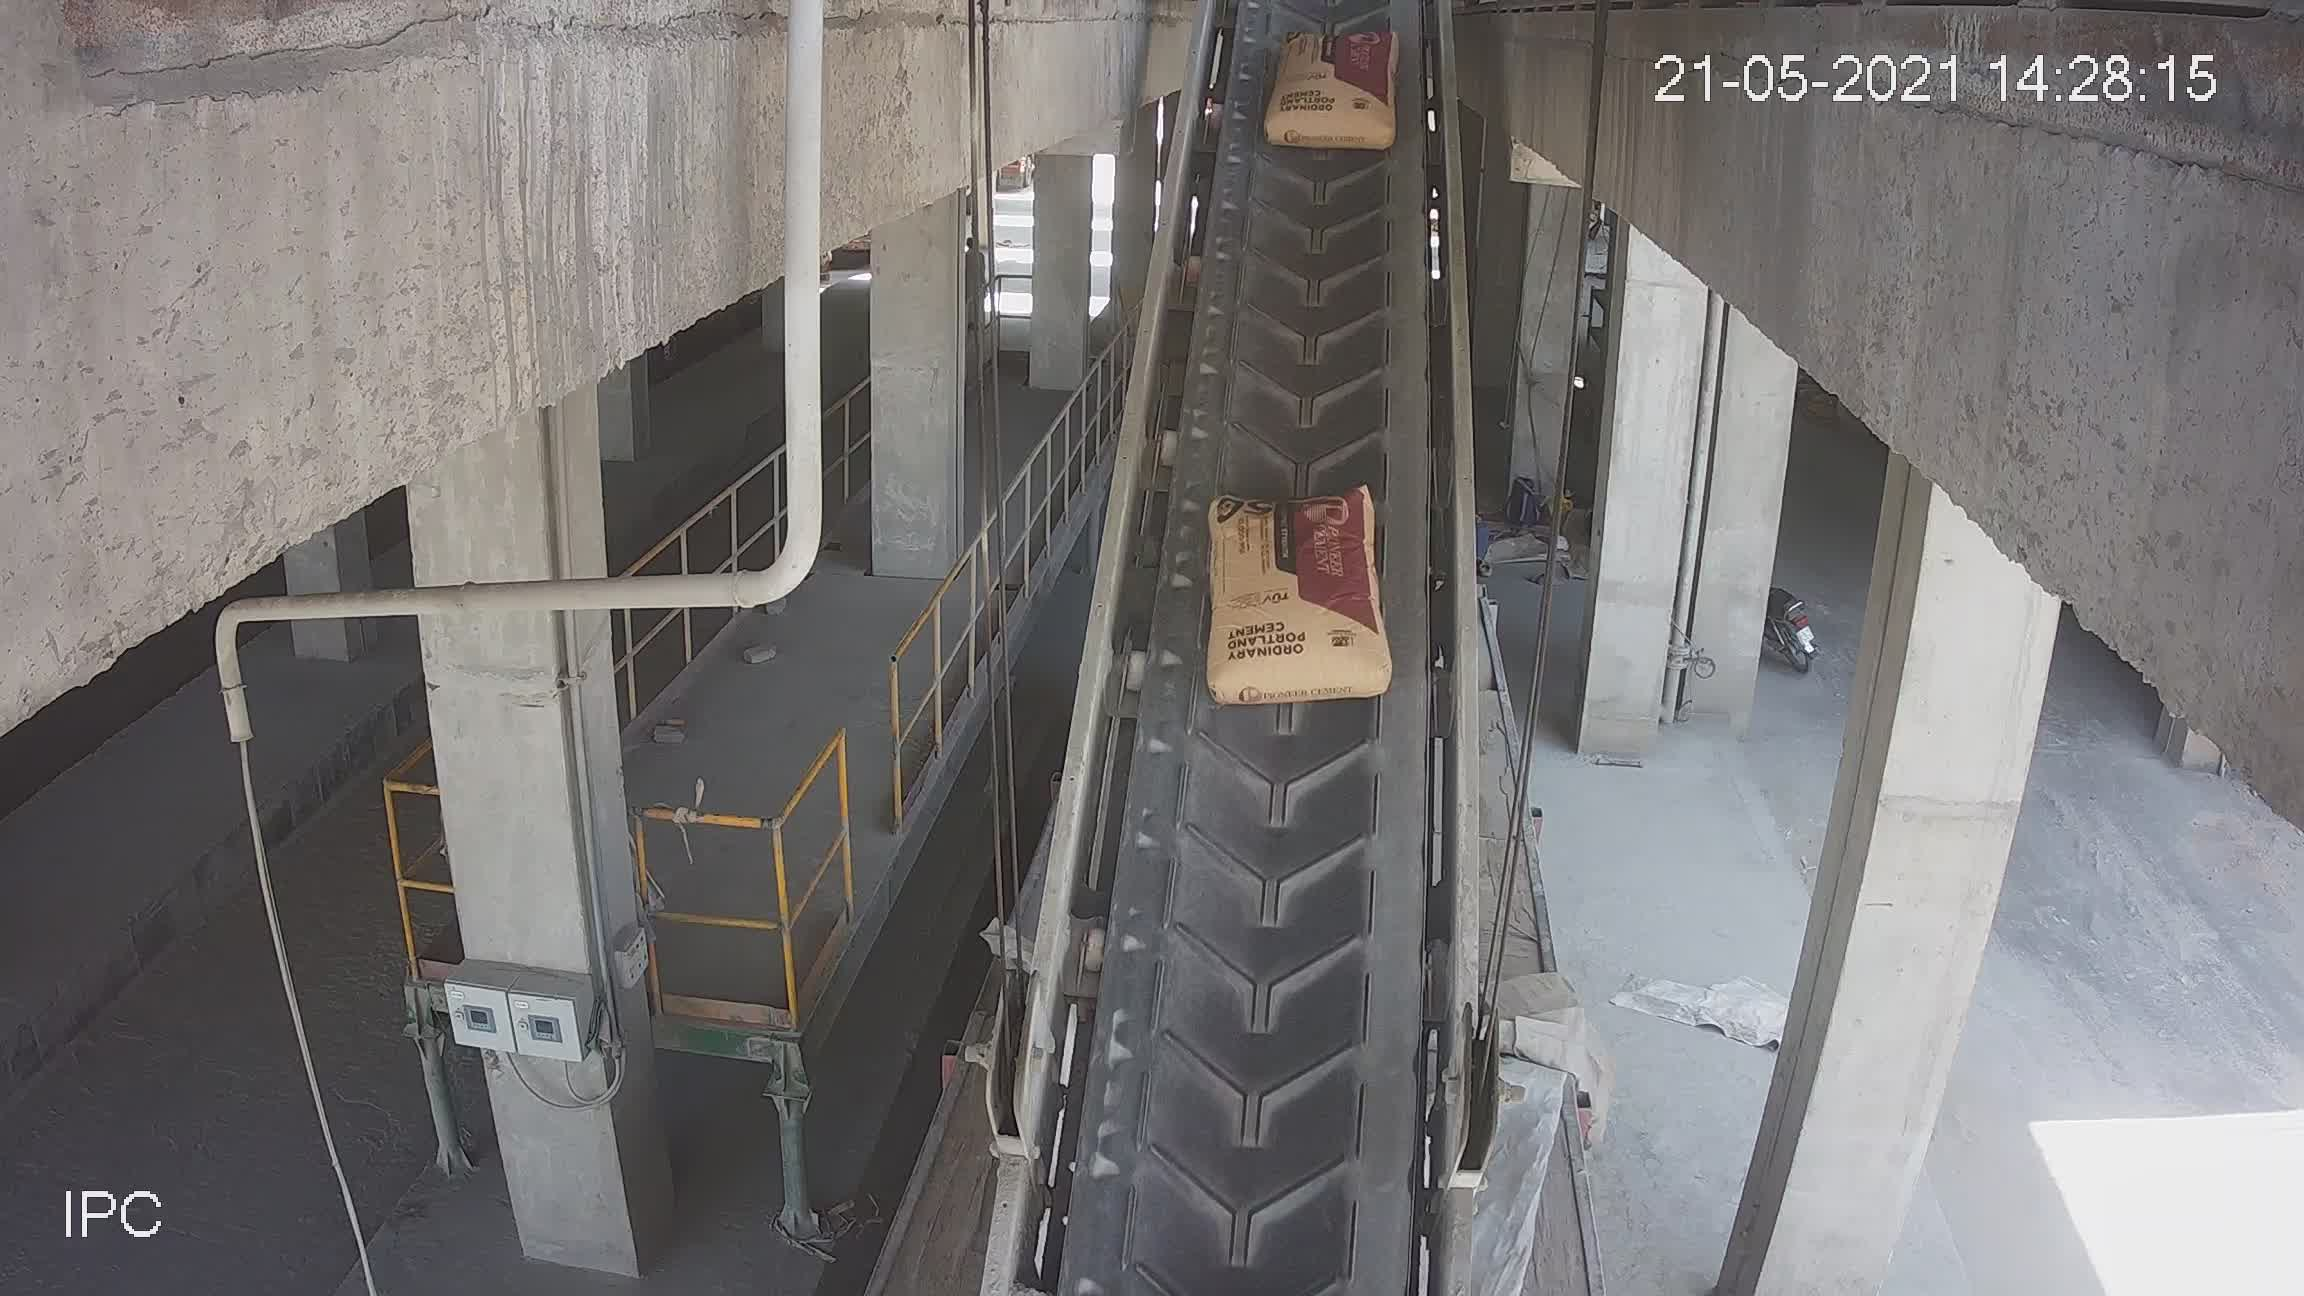bag: (1212, 491, 1370, 703), (1271, 36, 1389, 153)
belt: (1062, 24, 1484, 1249)
